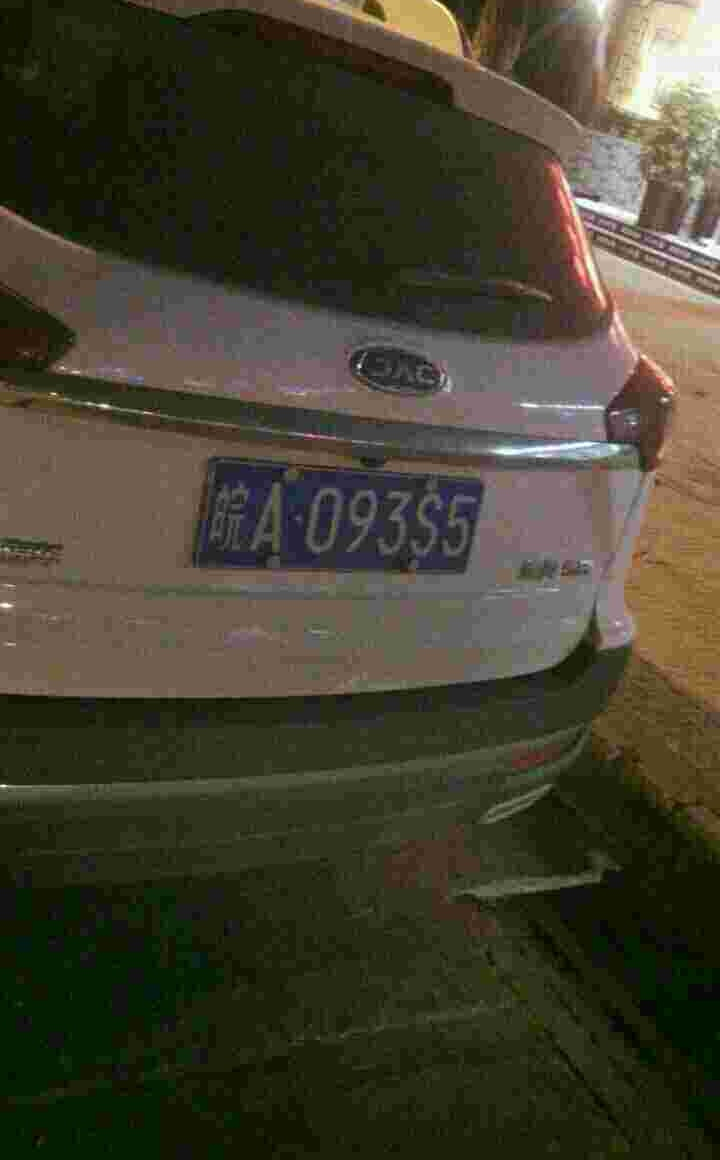license_plate: (195, 461, 489, 570)
